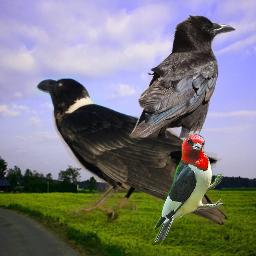Crow: (34, 73, 227, 226), (129, 14, 237, 138)
Woodpecker: (151, 133, 223, 242)
